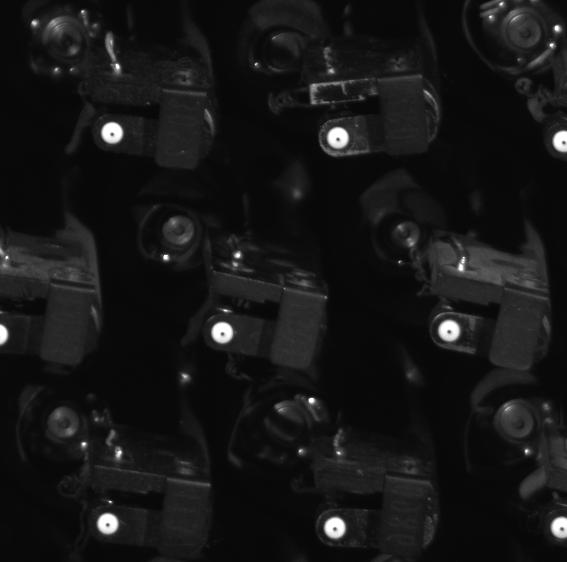fiber: (92, 116, 131, 153), (434, 312, 468, 348), (320, 509, 352, 547), (91, 506, 125, 539), (206, 318, 240, 350), (323, 124, 357, 154), (548, 510, 567, 545), (550, 125, 567, 160)
